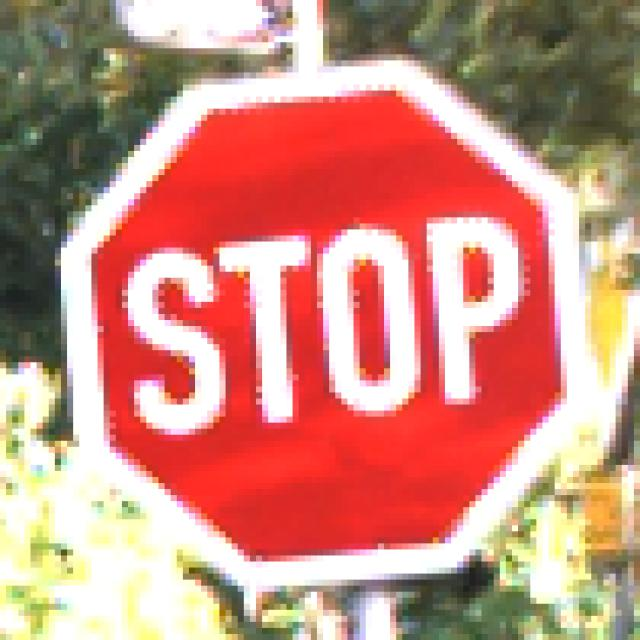STOP: (62, 61, 586, 587)
